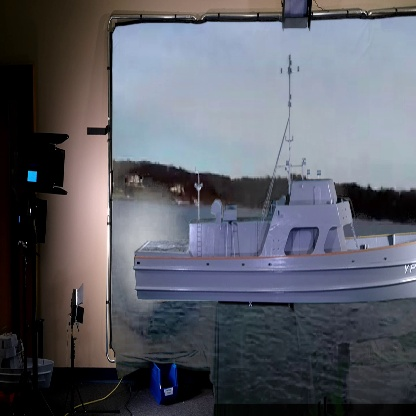YP689: (132, 46, 416, 301)
